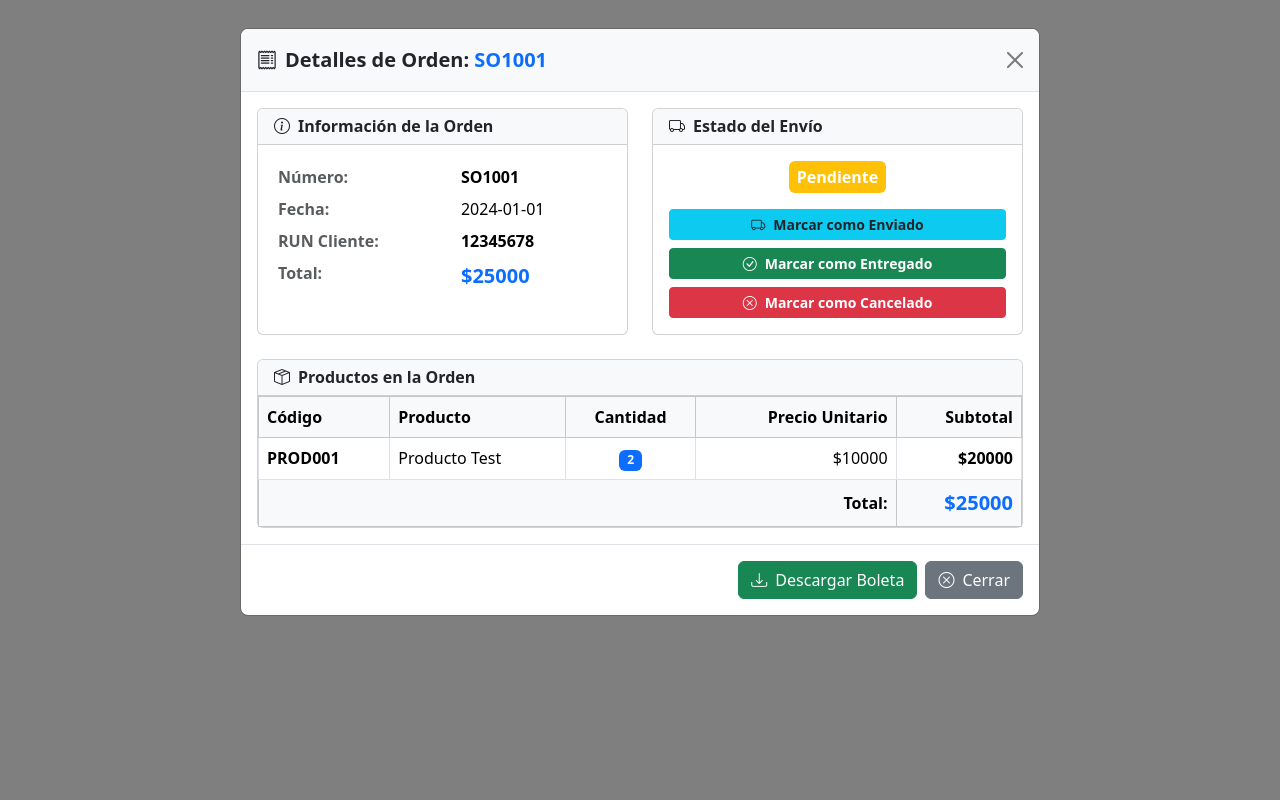
Test: OrdenModal › should show format selector when download button is clicked
The image size is (1280, 800).
Step 1. Click the button "Descargar Boleta" → point(828, 580), box [738,561,917,599]
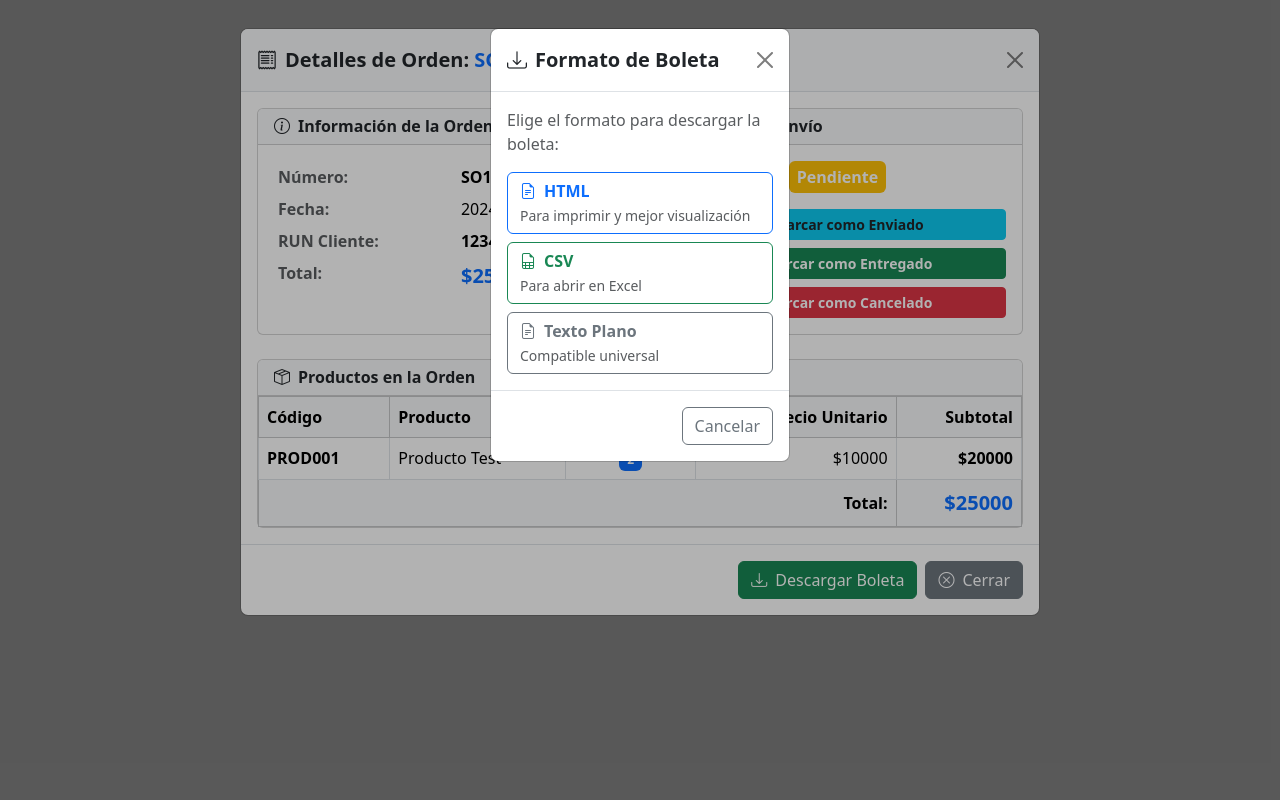
Result: the heading "Formato de Boleta" is shown at [507,45,720,75]
Result: the text "HTML" is shown at [544,180,590,202]
Result: the text "CSV" is shown at [544,250,573,272]
